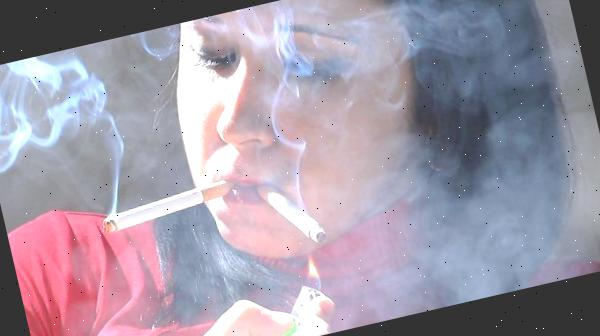smoke: (387, 141, 592, 310), (355, 0, 514, 85), (0, 45, 106, 168)
